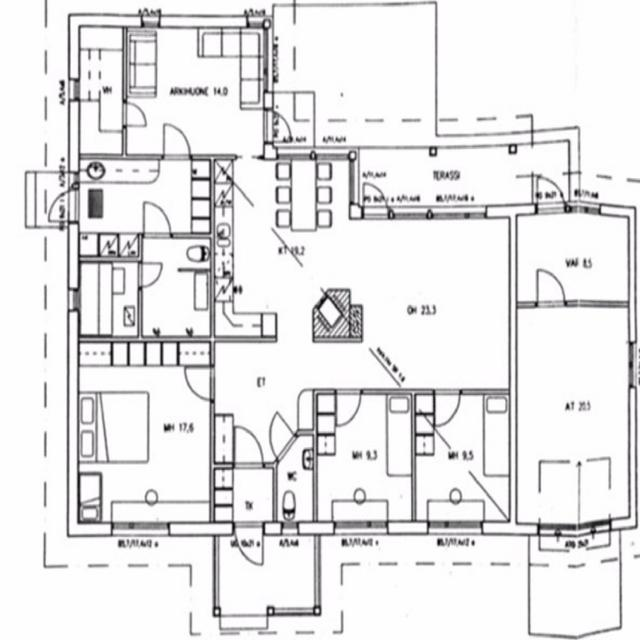door: (260, 411, 297, 461), (536, 164, 566, 219), (235, 424, 263, 468), (537, 263, 565, 307), (235, 522, 262, 565), (364, 172, 388, 218), (164, 118, 190, 160), (144, 196, 170, 238), (44, 190, 78, 221), (264, 109, 296, 141), (435, 388, 460, 426), (186, 366, 214, 399), (337, 389, 361, 426), (123, 100, 145, 126), (138, 263, 160, 288)
